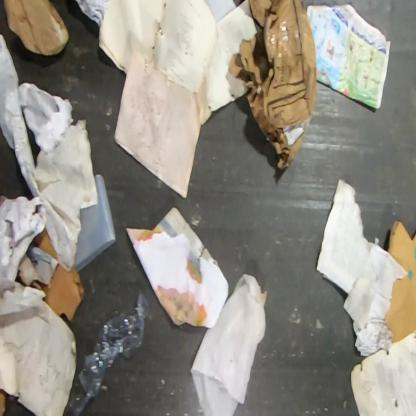cardboard: (228, 0, 317, 171), (66, 282, 155, 415), (383, 217, 415, 345), (2, 0, 70, 58), (38, 263, 86, 323), (33, 226, 58, 261), (0, 388, 8, 415)
soft_plastic: (73, 173, 118, 273)
